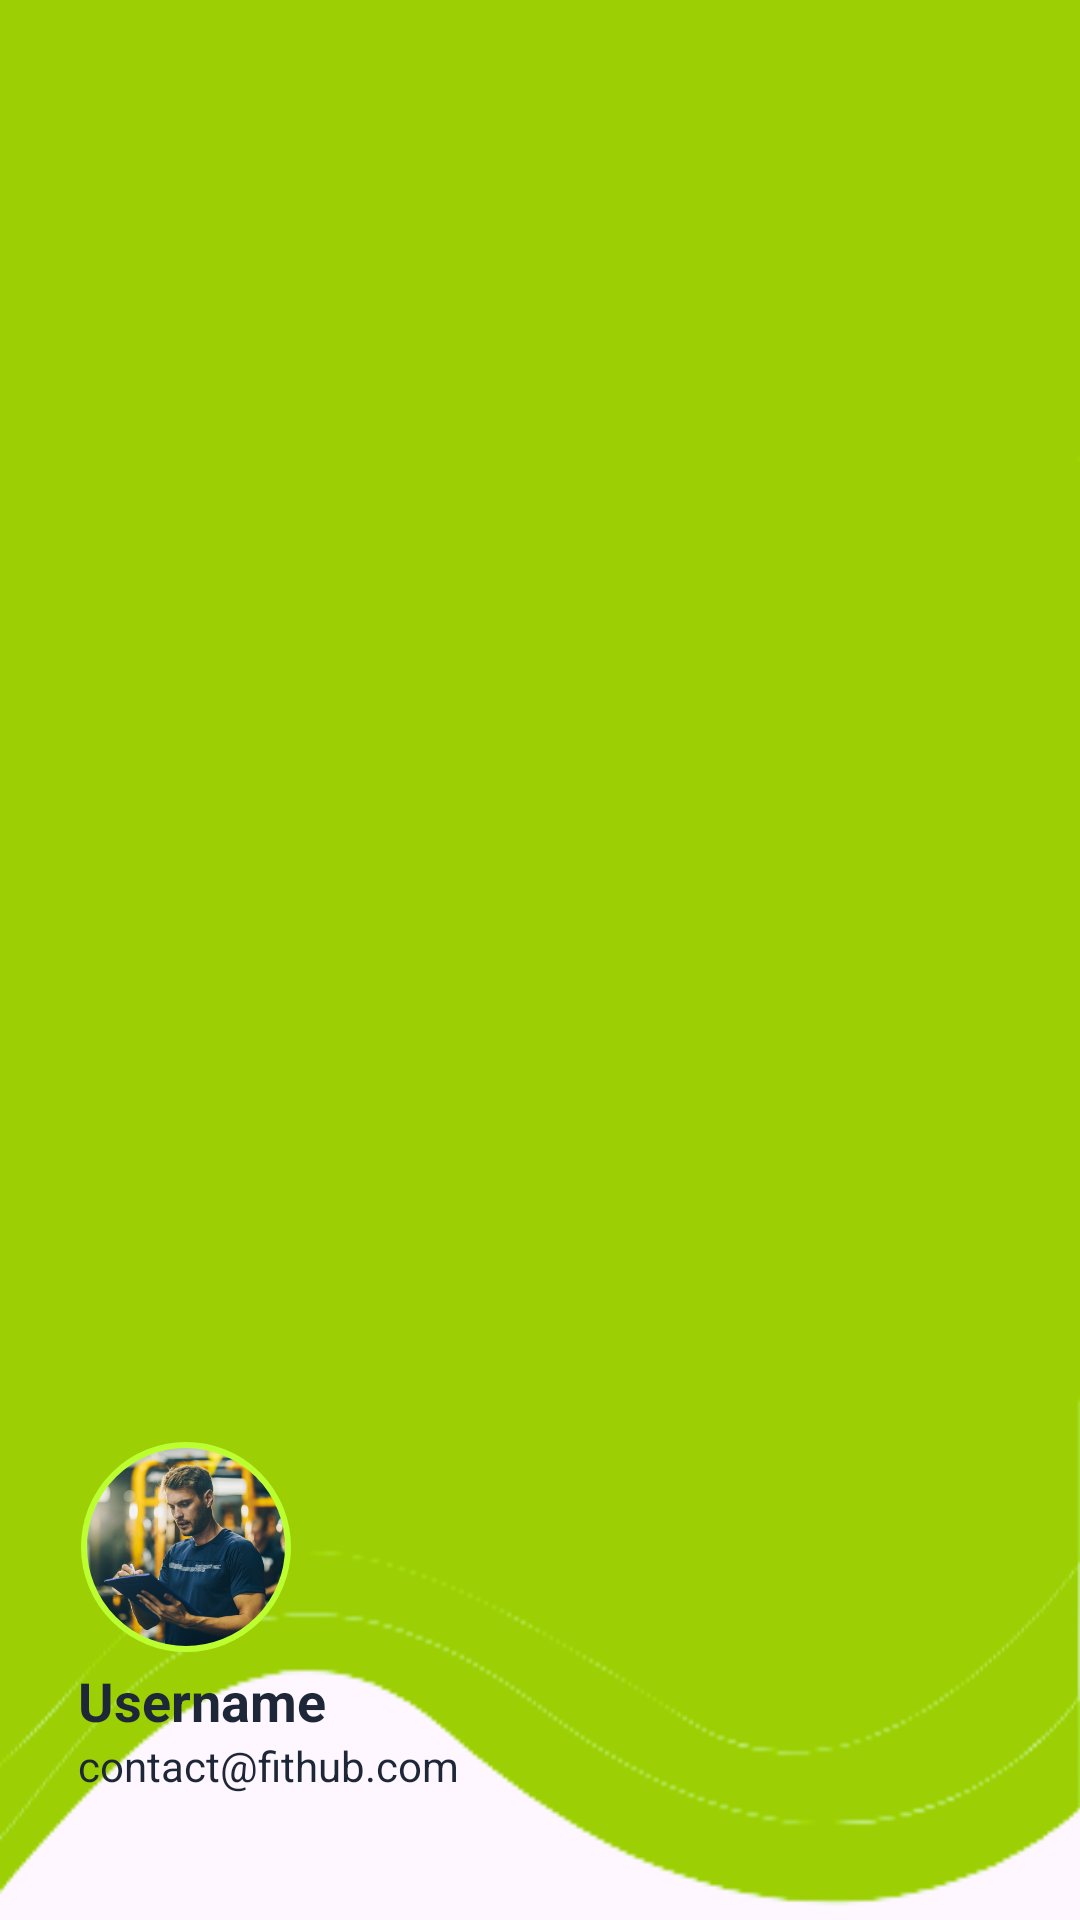

Named icons in this screenshot (1080×1920) and their centers, [x,y]:
coach: [186,1548]
